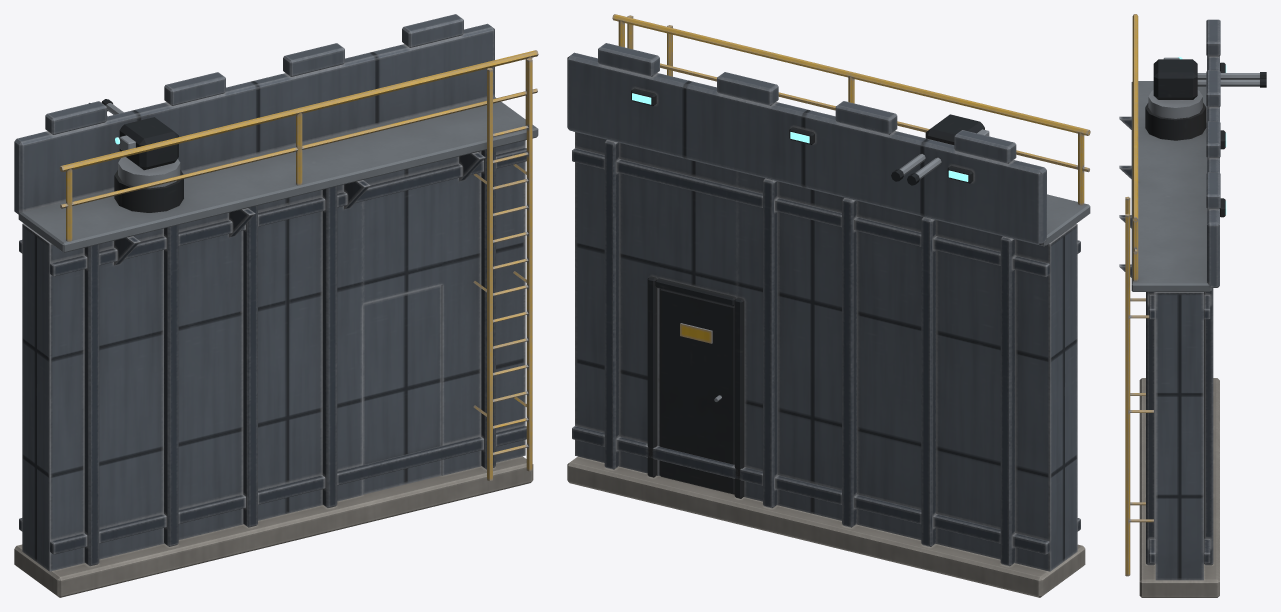
The model's file is muro_perimetral.fbx.
The picture shows the model from 3 angles, left to right: view 1: azimuth 30°, elevation 25°; view 2: azimuth 150°, elevation 25°; view 3: azimuth 270°, elevation 25°; orthographic projection. The views are drawn at different scales.
Visible parts, largest first — view 1: muro_perimetral, muro_perimetral_tapa_sin_puerta, muro_perimetral_escalera, muro_perimetral_torreta; view 2: muro_perimetral, muro_perimetral_puerta, muro_perimetral_torreta; view 3: muro_perimetral, muro_perimetral_torreta, muro_perimetral_escalera.
Part boxes in pixels (bbox=[...]): muro_perimetral: bbox=[14, 14, 538, 597]; muro_perimetral_tapa_sin_puerta: bbox=[363, 285, 441, 494]; muro_perimetral_escalera: bbox=[473, 58, 532, 481]; muro_perimetral_torreta: bbox=[89, 99, 180, 188]; muro_perimetral: bbox=[567, 14, 1090, 597]; muro_perimetral_puerta: bbox=[659, 288, 734, 494]; muro_perimetral_torreta: bbox=[891, 114, 989, 185]; muro_perimetral: bbox=[1119, 14, 1225, 597]; muro_perimetral_torreta: bbox=[1148, 57, 1266, 118]; muro_perimetral_escalera: bbox=[1125, 196, 1153, 576].
Bounding box in the file's own units: 6 × 5.35 × 1.83.
2 materials, 1 textured.
